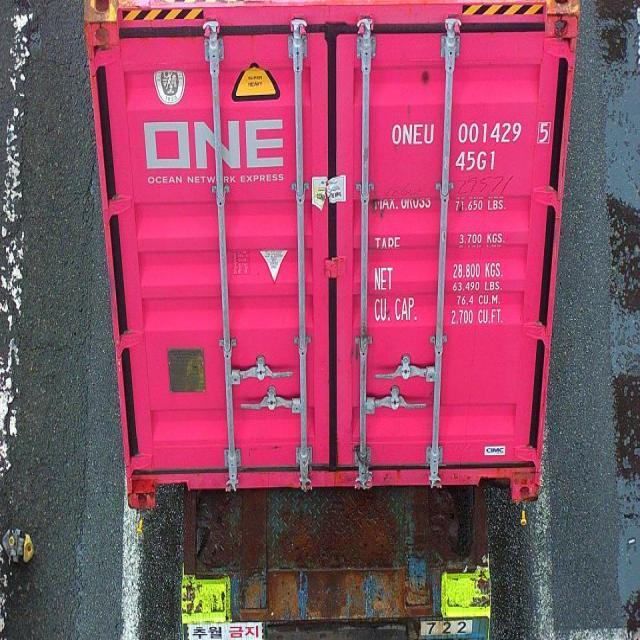ISO: (454, 150, 500, 174), (456, 151, 498, 172)
container_number: (398, 121, 550, 144)
